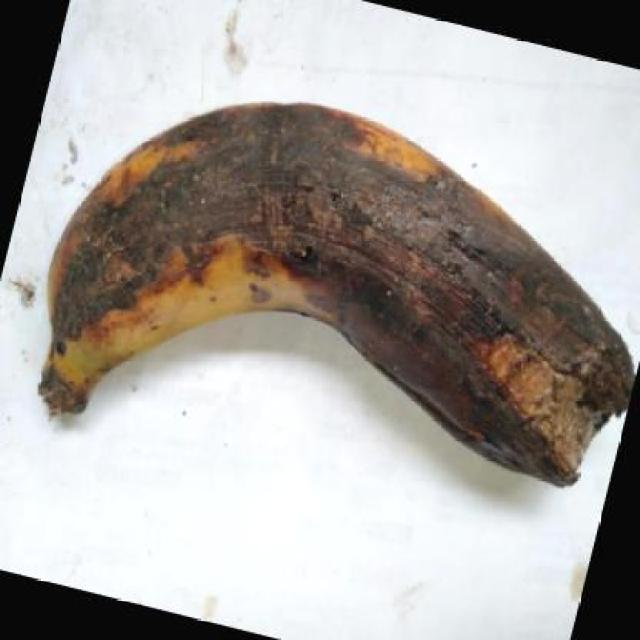Rotten: (15, 72, 640, 507)
